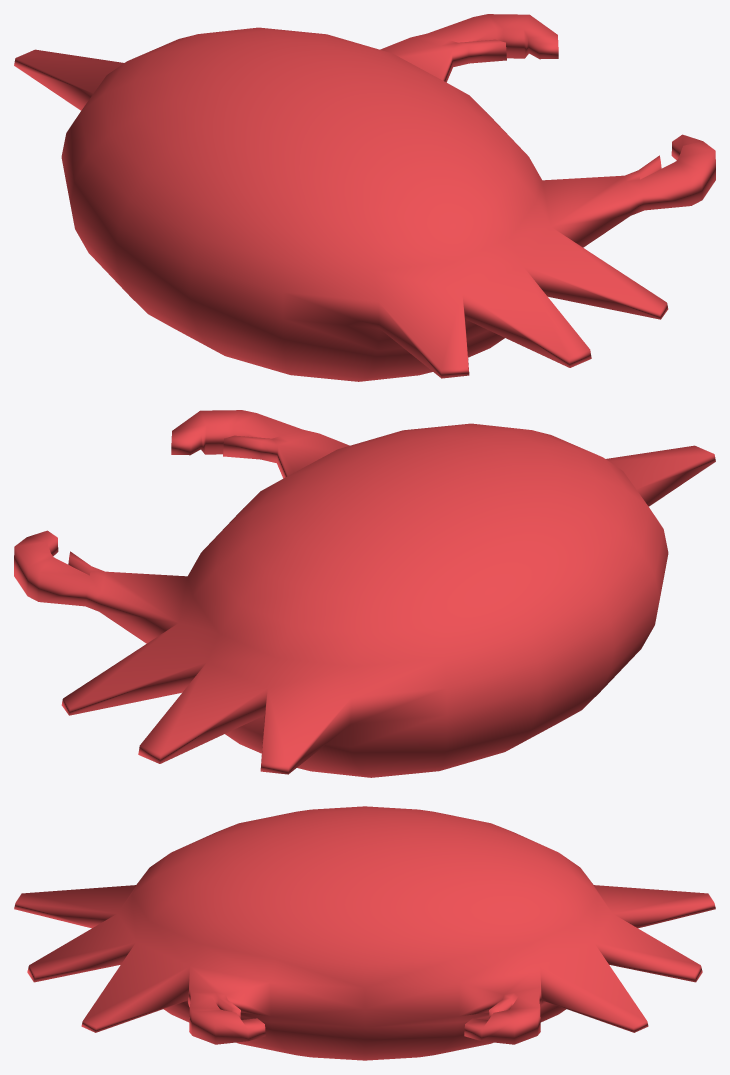
The model's file is sphere.025_lev3.glb.
3 views of the same model, one above another, from view 1: azimuth 30°, elevation 25°; view 2: azimuth 150°, elevation 25°; view 3: azimuth 270°, elevation 25° (orthographic). The views are drawn at different scales.
Parts seen in each view (by area): view 1: sphere.025_lev3; view 2: sphere.025_lev3; view 3: sphere.025_lev3.
Boxes of the visible parts, box(x1,y1,x2,y2) form: sphere.025_lev3: box(14, 14, 715, 381); sphere.025_lev3: box(14, 410, 715, 777); sphere.025_lev3: box(14, 806, 715, 1060).
Bounding box in the file's own units: 0.3679 × 0.173 × 0.5389.
